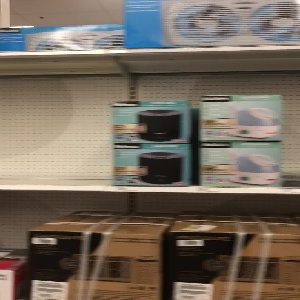void: (1, 52, 110, 187)
